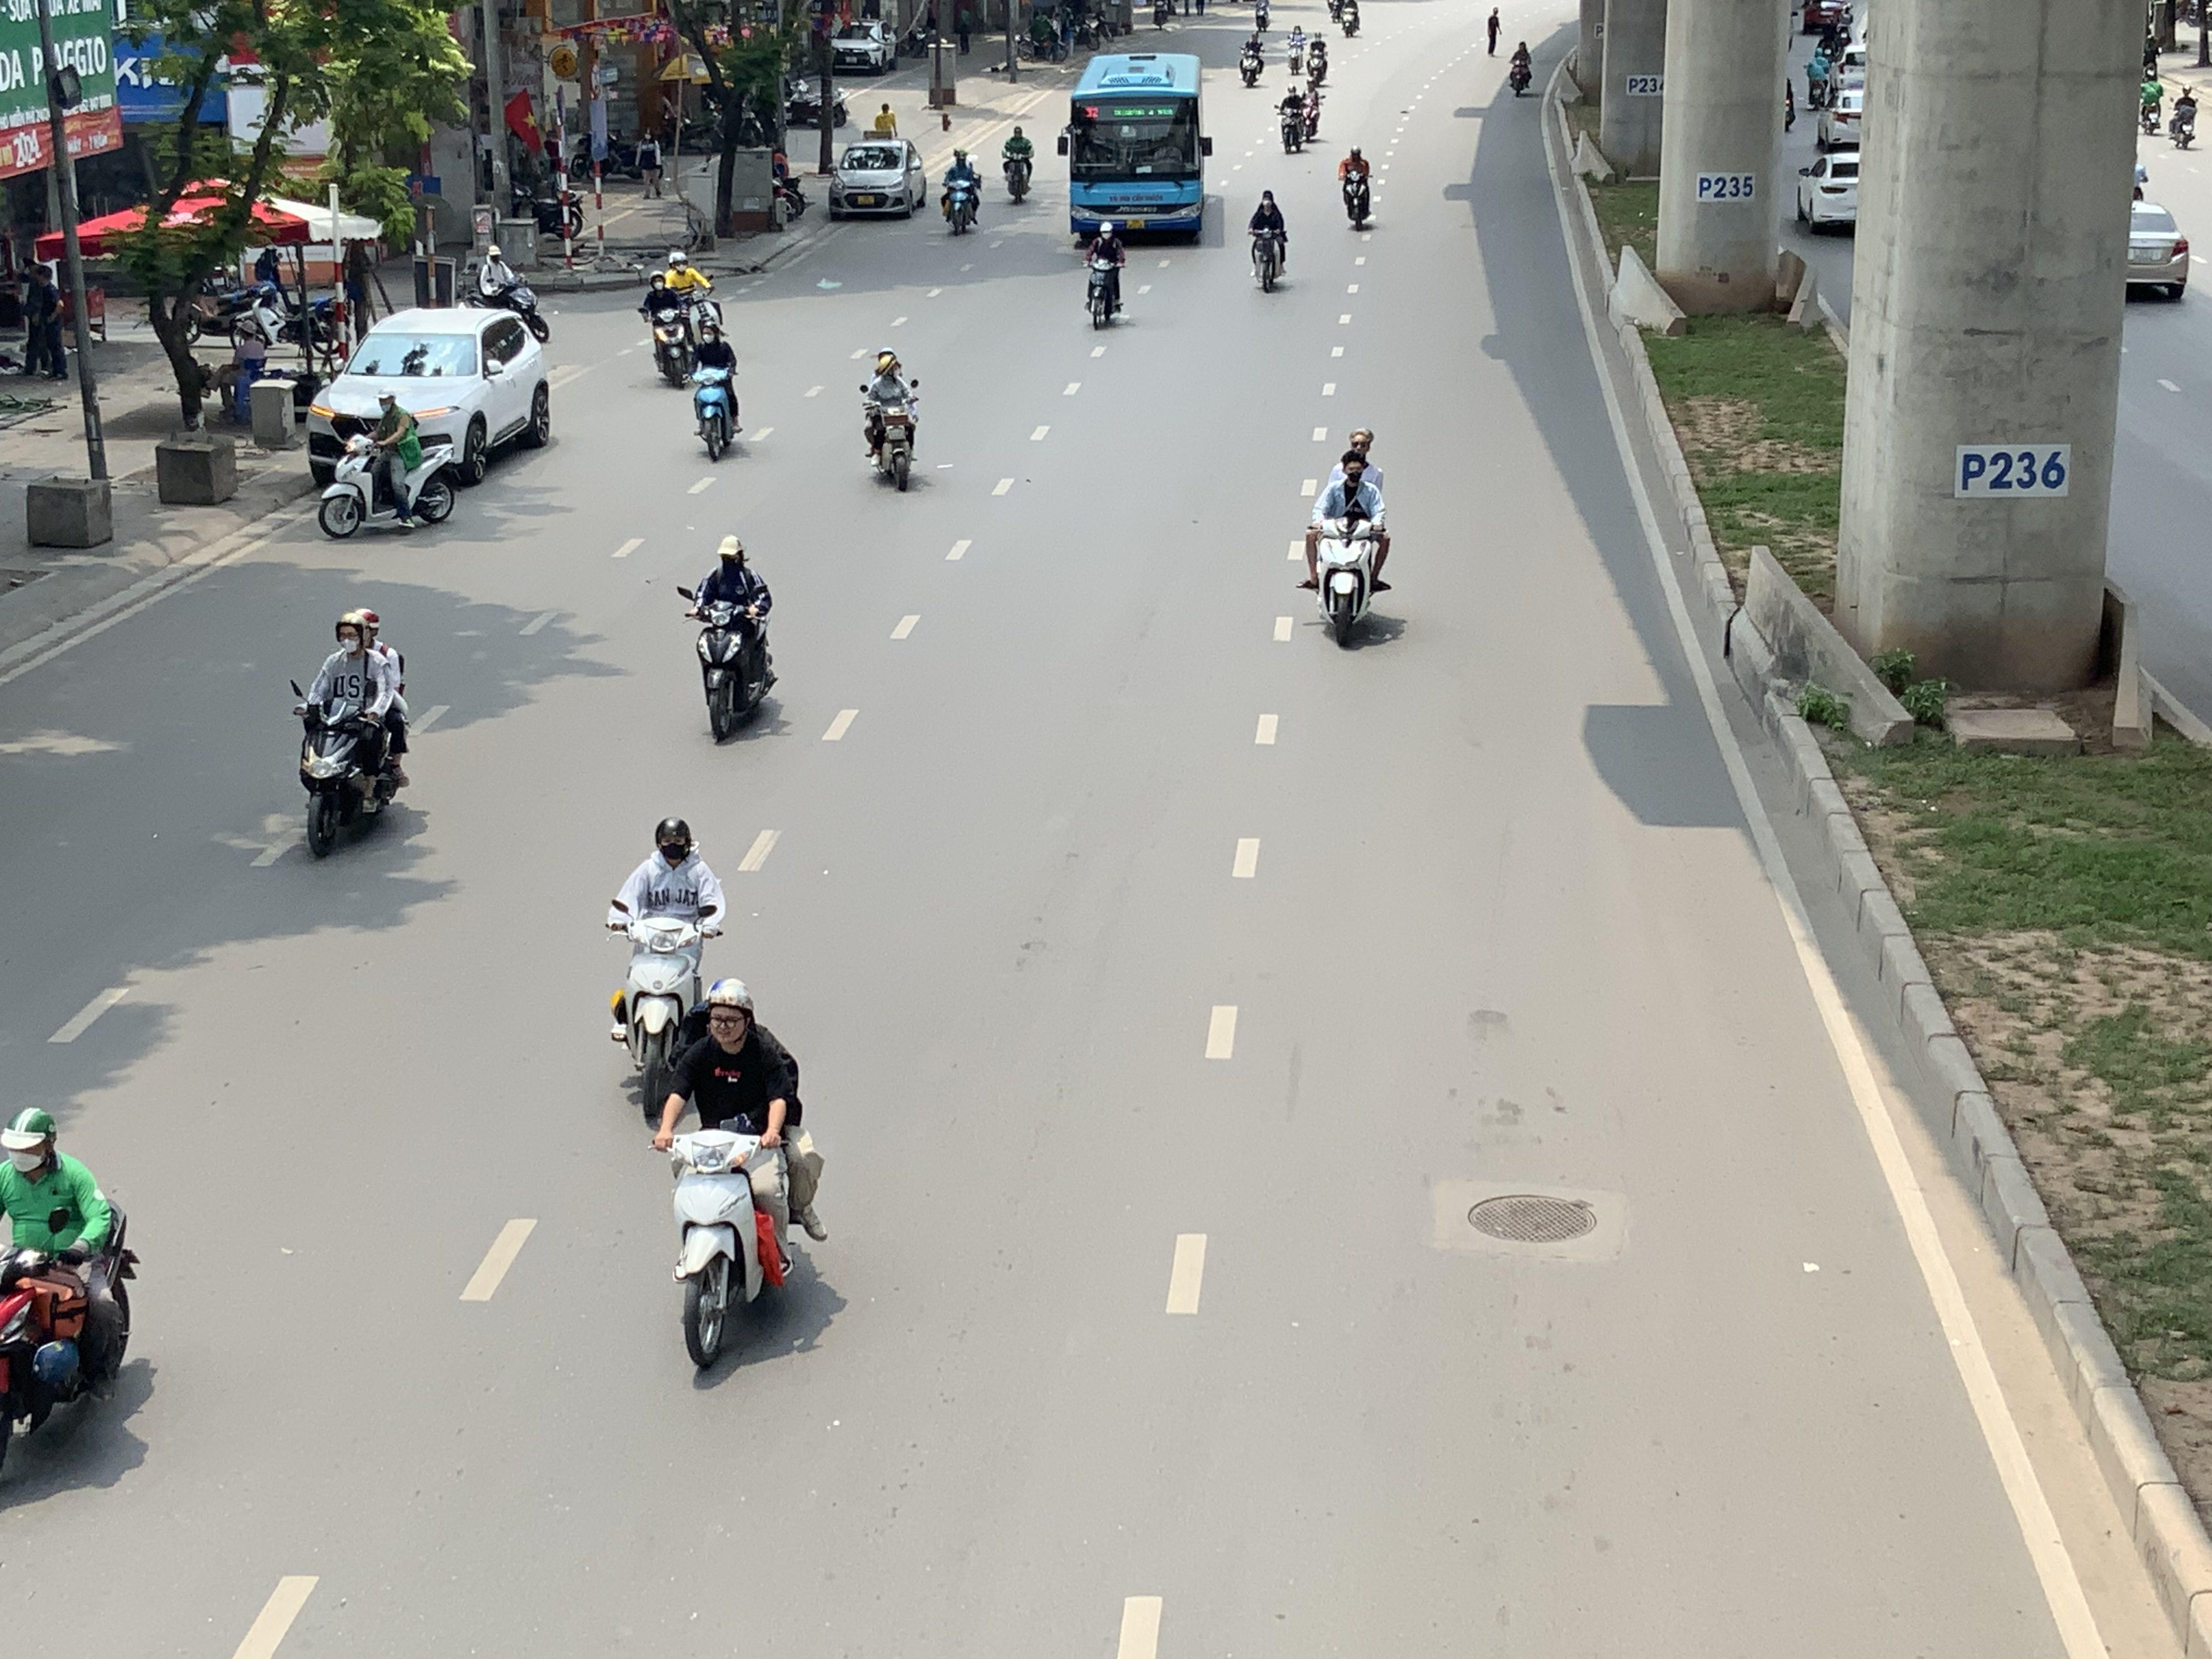bus: (1061, 51, 1212, 246)
car: (307, 305, 554, 488), (826, 138, 927, 220), (2127, 197, 2189, 301), (1794, 146, 1860, 235), (829, 19, 897, 73)
motorbike: (655, 976, 822, 1384), (0, 1105, 139, 1500), (608, 816, 723, 1115), (293, 608, 409, 861), (317, 392, 456, 538), (683, 535, 779, 746), (1301, 432, 1390, 650), (860, 349, 921, 491), (465, 244, 549, 343), (690, 317, 742, 460), (644, 268, 697, 389), (1083, 218, 1127, 329), (1247, 186, 1291, 293), (941, 146, 984, 235), (1338, 143, 1376, 230), (1277, 73, 1317, 155), (1000, 122, 1036, 206), (1803, 40, 1838, 108), (2168, 78, 2200, 150), (2137, 63, 2165, 138), (1238, 24, 1268, 87), (1305, 26, 1331, 87), (1508, 38, 1534, 96), (1331, 0, 1360, 38), (1249, 0, 1271, 28)
